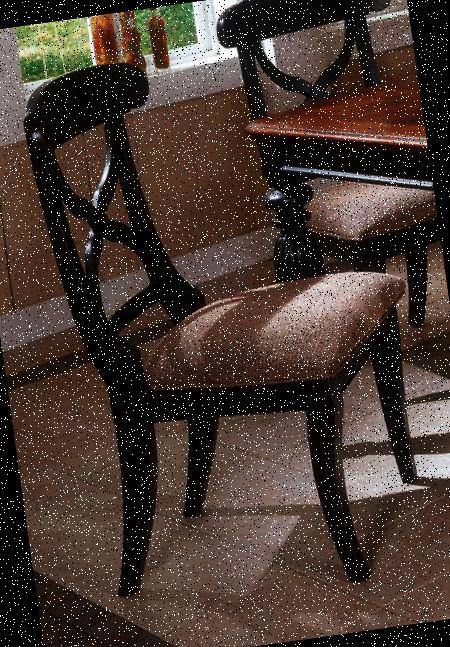Silla: (15, 26, 442, 620), (211, 0, 449, 346)
